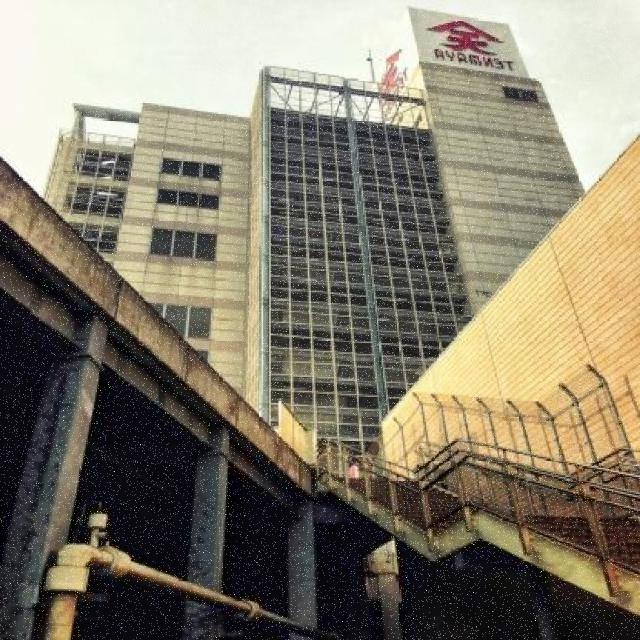stair: (503, 512, 640, 580), (329, 474, 483, 532)
